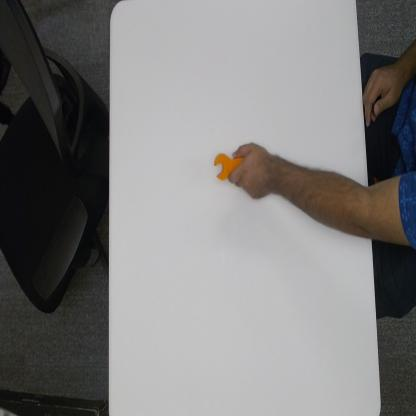Arm: (280, 154, 416, 250)
Hand: (233, 138, 276, 200)
Screwdriver: (211, 144, 238, 182)
